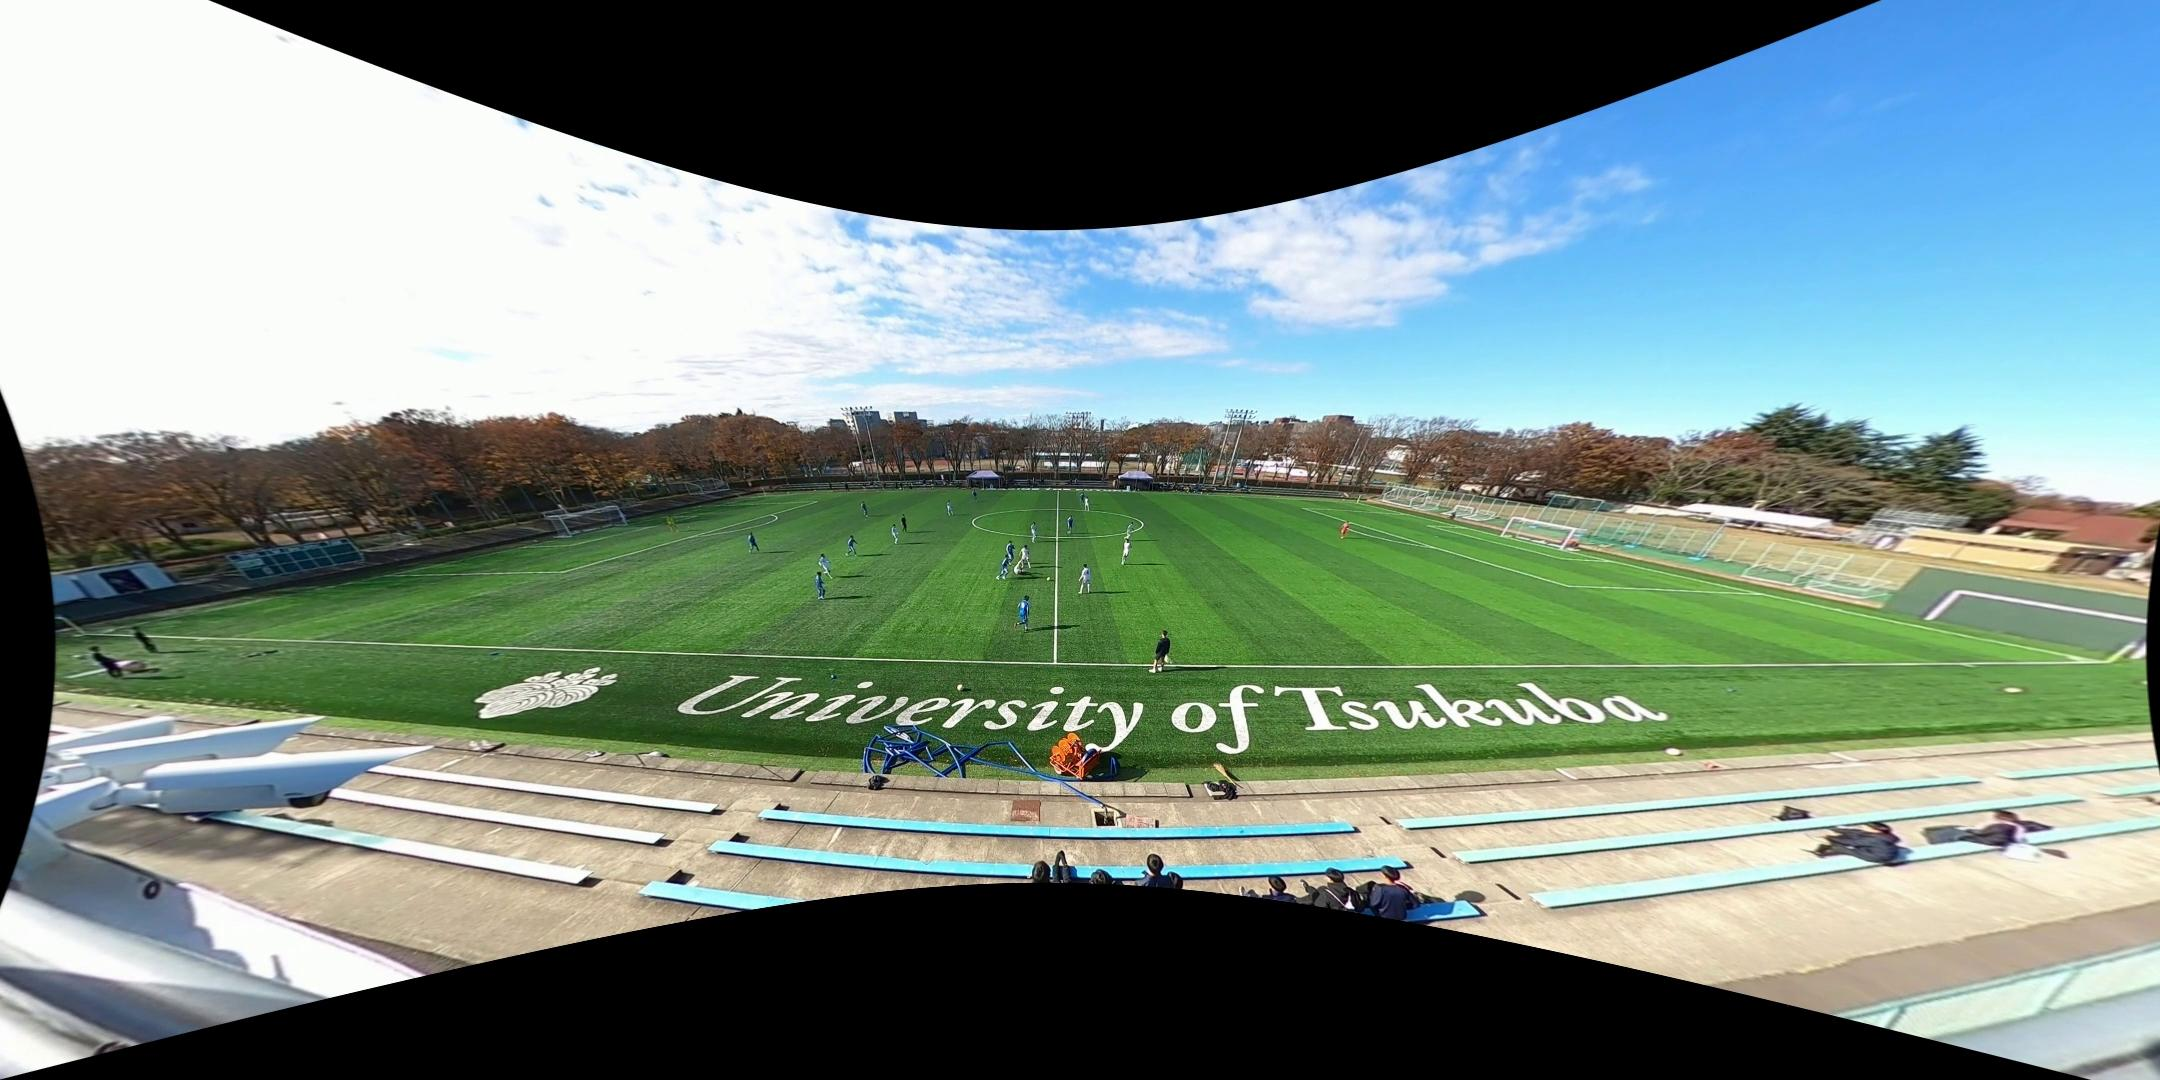person: (1150, 630, 1170, 673), (1013, 595, 1031, 632), (1078, 563, 1092, 594), (819, 554, 835, 580), (1013, 559, 1036, 577), (996, 553, 1011, 580), (1018, 545, 1034, 569), (814, 571, 826, 599), (845, 535, 859, 558), (1121, 539, 1132, 565), (748, 531, 760, 554), (1005, 541, 1016, 565), (1338, 520, 1350, 540), (666, 514, 679, 532), (890, 524, 900, 545), (1030, 522, 1039, 543), (945, 500, 955, 517), (1125, 522, 1134, 540), (901, 513, 908, 534), (1066, 515, 1074, 533), (861, 501, 869, 517), (1084, 496, 1091, 511), (971, 488, 978, 502), (1080, 491, 1086, 505)
sports ball: (1663, 742, 1684, 759), (2002, 685, 2024, 696), (955, 682, 968, 692), (1046, 576, 1052, 582)
